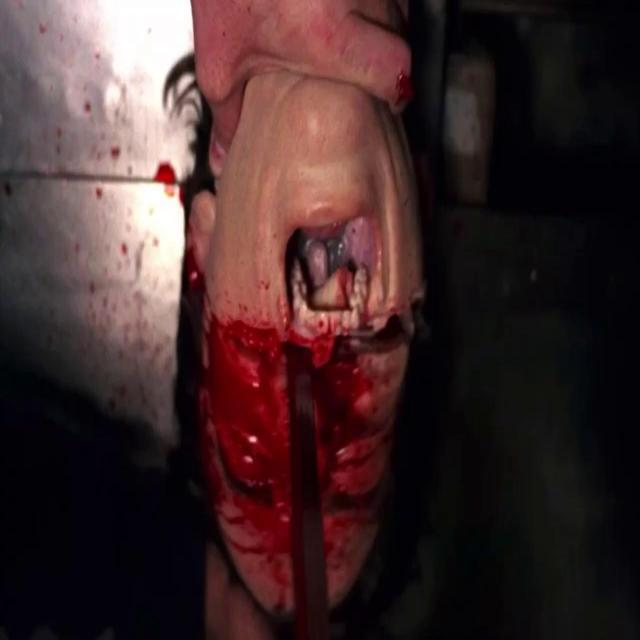flood: (194, 235, 387, 610)
